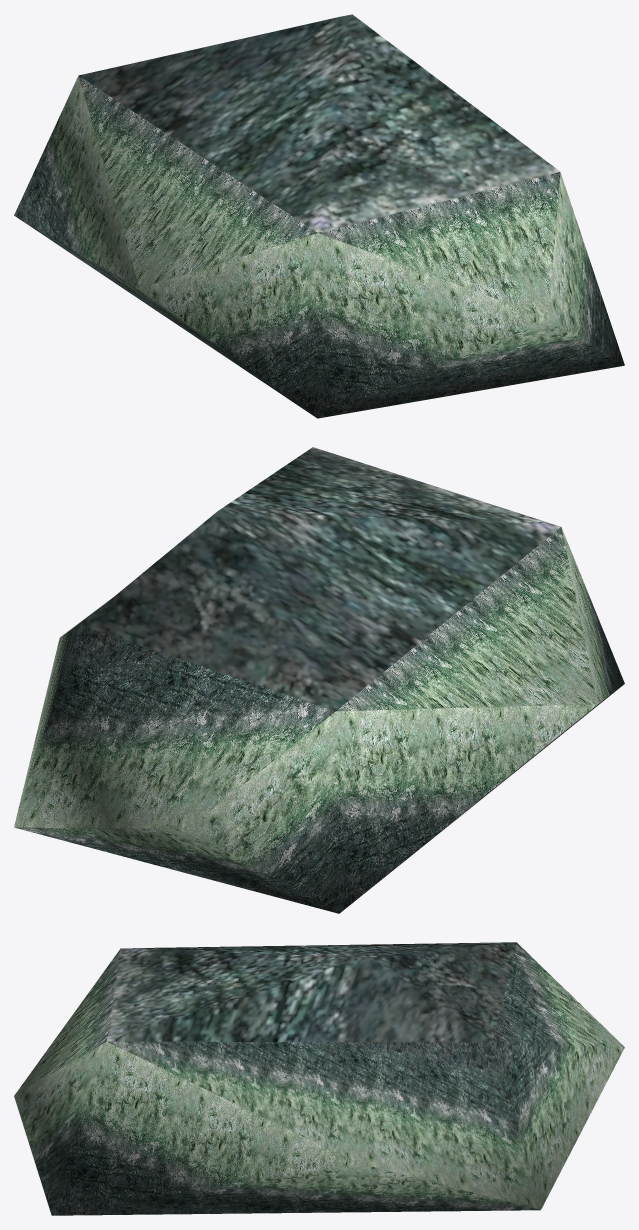
The model's file is rock_beach_dark_lg_l3.fbx.
3 views of the same model, one above another, from view 1: azimuth 30°, elevation 25°; view 2: azimuth 150°, elevation 25°; view 3: azimuth 270°, elevation 25° (orthographic). The views are drawn at different scales.
Visible parts, largest first — view 1: mesh_node; view 2: mesh_node; view 3: mesh_node.
Part boxes in pixels (<box>): mesh_node: <box>14,14,624,418</box>; mesh_node: <box>14,447,624,913</box>; mesh_node: <box>14,942,624,1215</box>.
Size of the model in its own units: 10.73 by 5.8 by 14.83.
